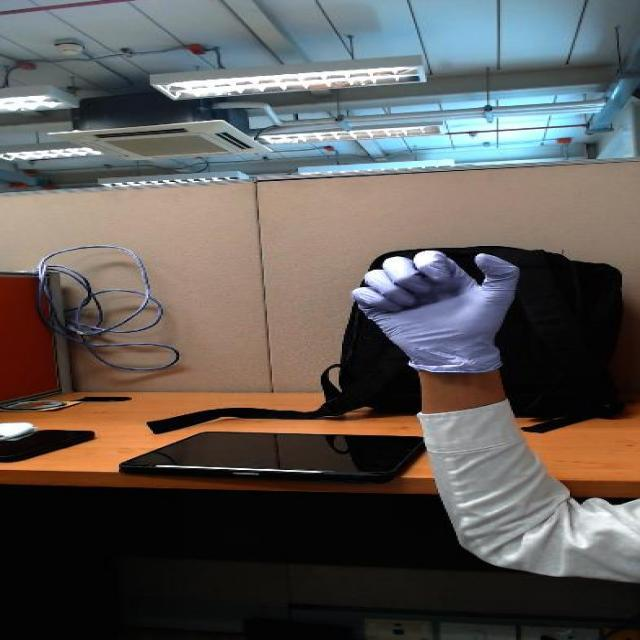Glove: (322, 248, 550, 378)
